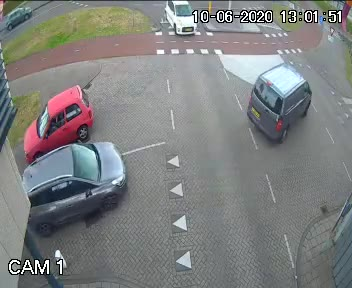car: (7, 140, 145, 226), (243, 60, 313, 151), (9, 84, 97, 148), (162, 0, 204, 40), (3, 0, 32, 33)
